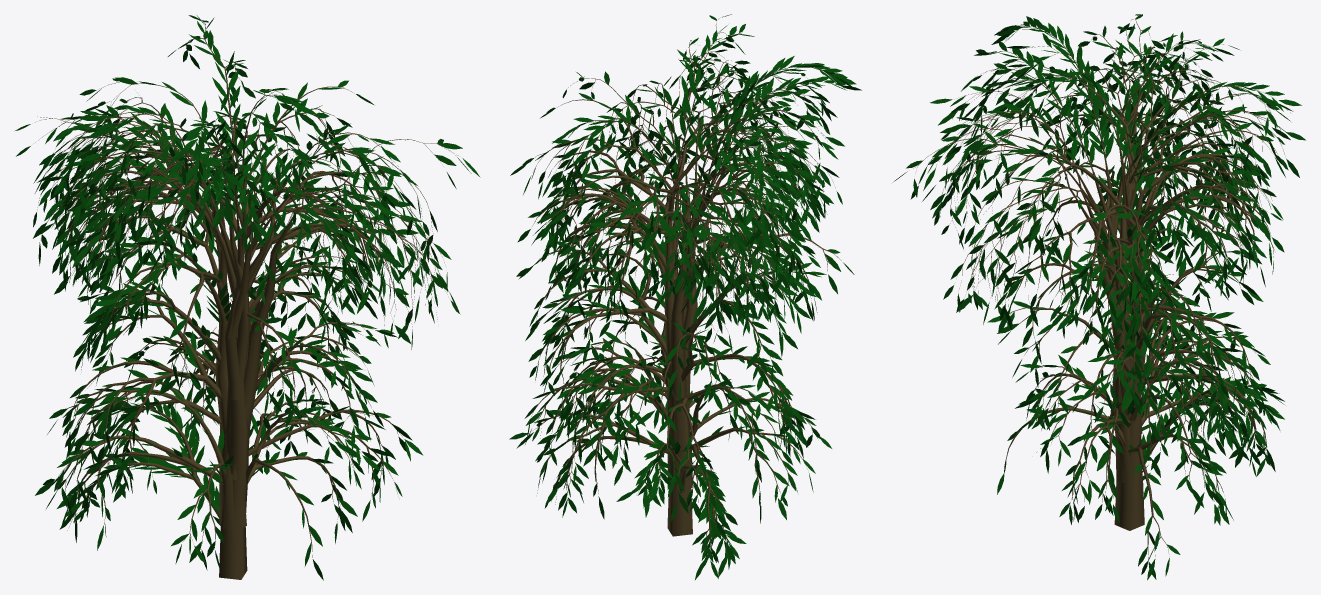
The model's file is willow_3.glb.
3 views of the same model, side by side, from view 1: azimuth 30°, elevation 25°; view 2: azimuth 150°, elevation 25°; view 3: azimuth 270°, elevation 25° (orthographic). The views are drawn at different scales.
Parts seen in each view (by area): view 1: leaves, tree; view 2: leaves, tree; view 3: leaves, tree.
Part boxes in pixels (x1,y1,x2,y2): leaves: (15,15,480,580); tree: (35,20,458,579); leaves: (509,14,861,579); tree: (531,18,841,557); leaves: (894,14,1305,580); tree: (913,17,1290,558).
Size of the model in its own units: 14.94 by 20.87 by 16.18.
